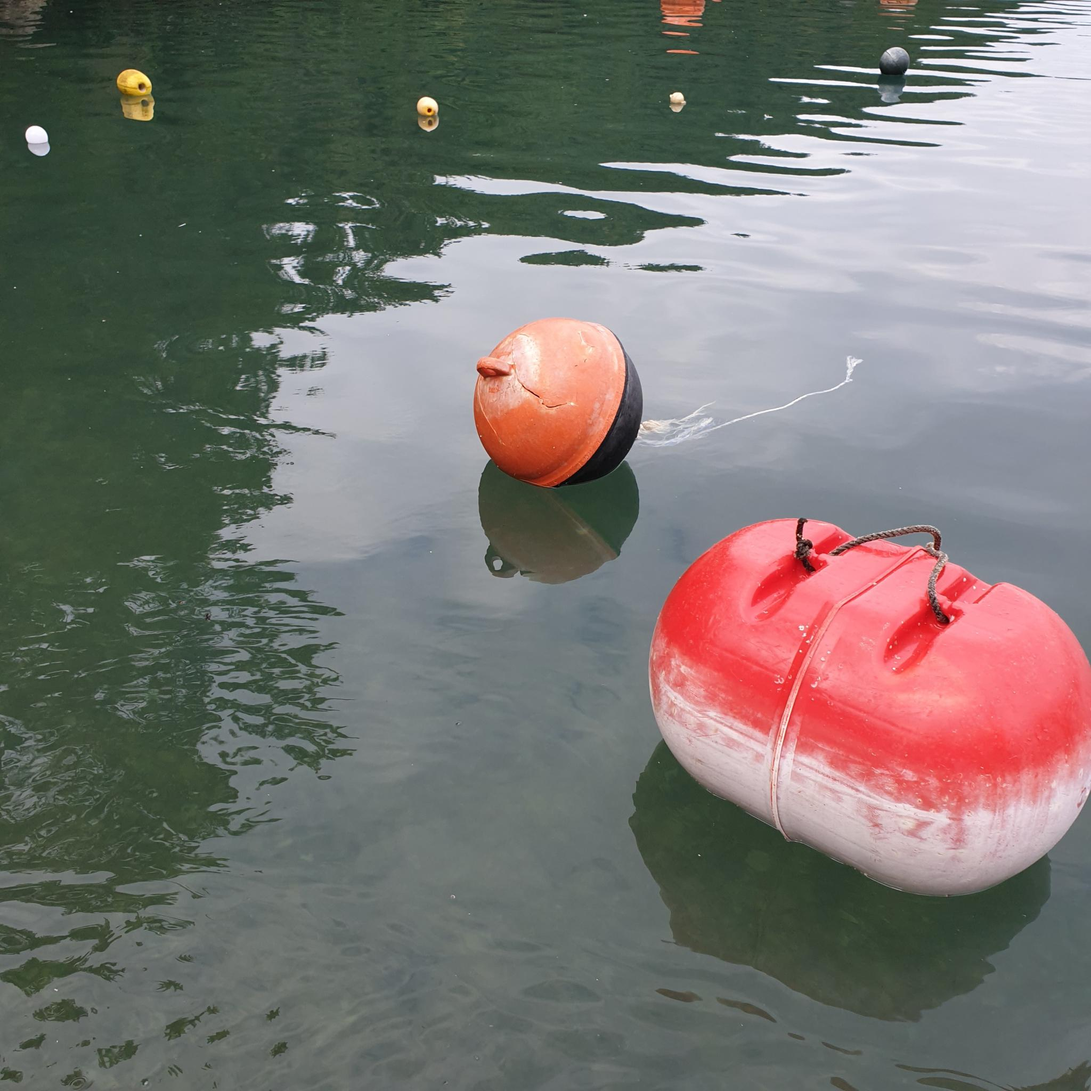sampah_terapung: (649, 519, 1091, 898), (474, 317, 644, 488), (636, 357, 864, 448), (795, 517, 950, 625), (117, 70, 152, 97), (880, 47, 910, 76), (417, 97, 438, 116), (26, 126, 48, 144), (670, 92, 687, 104)
